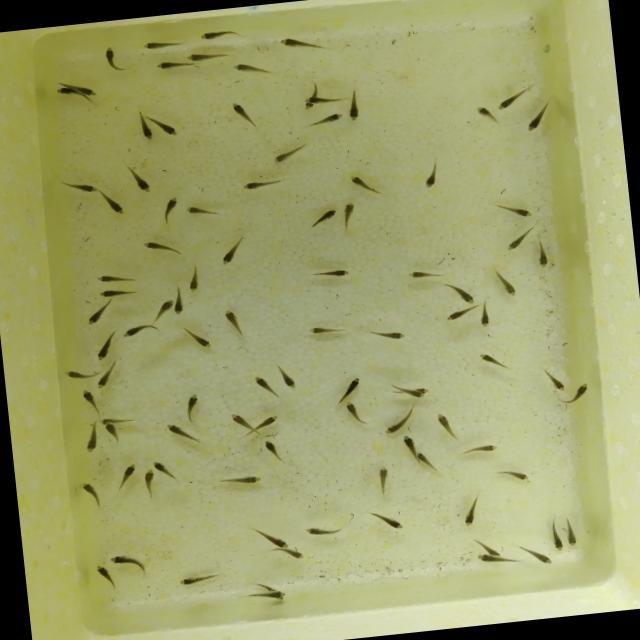fingerling: (148, 456, 184, 487), (520, 99, 550, 135), (493, 87, 533, 113), (250, 523, 286, 551), (125, 162, 154, 194), (384, 408, 418, 434), (108, 552, 148, 574), (278, 34, 322, 54), (214, 236, 243, 266), (521, 542, 553, 569), (445, 279, 477, 306), (434, 410, 460, 443), (334, 374, 362, 404), (495, 268, 521, 300), (304, 206, 340, 229), (339, 198, 363, 232), (502, 228, 532, 255), (372, 507, 404, 532), (270, 142, 310, 162), (494, 200, 534, 220), (59, 176, 98, 196), (226, 99, 252, 128), (240, 176, 284, 193), (308, 110, 345, 130), (90, 334, 116, 362), (460, 495, 482, 528), (414, 445, 439, 474), (100, 186, 124, 216), (542, 364, 566, 394), (478, 534, 508, 558), (163, 420, 195, 442), (228, 60, 272, 76), (200, 27, 246, 42), (498, 468, 534, 487), (114, 462, 140, 488), (254, 374, 279, 401), (96, 562, 120, 590), (347, 171, 376, 194), (183, 200, 220, 218), (300, 79, 320, 112), (94, 270, 138, 285), (226, 410, 253, 434), (150, 296, 177, 320), (374, 464, 391, 502), (154, 115, 182, 138), (158, 196, 181, 224), (140, 36, 186, 50), (441, 304, 473, 324), (478, 348, 508, 369), (94, 364, 118, 390), (568, 378, 592, 404), (260, 434, 283, 461), (184, 49, 228, 63), (84, 424, 105, 453), (250, 412, 280, 432), (80, 478, 105, 502), (562, 514, 579, 549), (222, 306, 244, 333), (139, 236, 172, 254), (276, 361, 298, 388), (184, 264, 205, 292), (184, 392, 204, 421), (548, 520, 566, 552), (248, 588, 286, 603), (137, 110, 154, 143), (82, 308, 110, 328), (404, 266, 439, 282), (345, 92, 362, 124), (534, 238, 550, 272), (420, 165, 440, 192), (400, 432, 420, 459), (302, 92, 340, 106), (103, 420, 122, 448), (474, 100, 498, 122), (174, 572, 207, 588), (342, 398, 362, 424), (118, 324, 154, 338), (102, 44, 120, 72), (306, 322, 339, 337), (476, 302, 495, 328), (461, 440, 496, 454), (378, 327, 410, 342), (64, 366, 96, 381), (223, 474, 263, 486), (303, 524, 337, 538), (141, 466, 156, 497), (170, 286, 186, 315), (190, 330, 212, 351), (80, 386, 100, 409), (95, 286, 133, 298), (149, 60, 187, 71), (282, 547, 308, 563), (392, 389, 422, 402), (76, 84, 99, 99), (326, 265, 350, 278), (100, 416, 134, 425), (54, 84, 77, 96)
